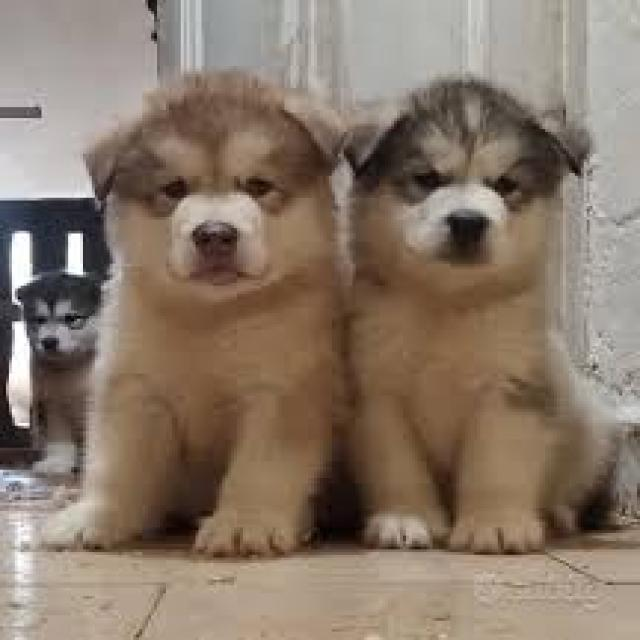ALASKAN_MALAMUTE: (334, 69, 640, 568), (51, 58, 340, 580)
